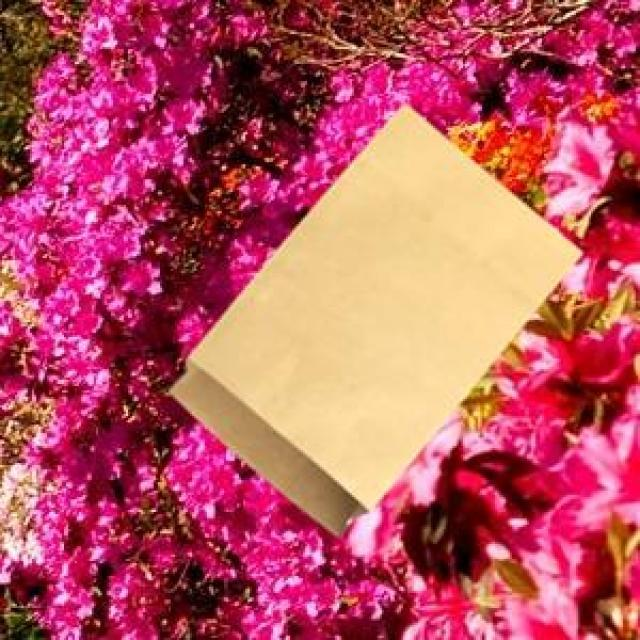Paper_Bag: (168, 101, 580, 532)
